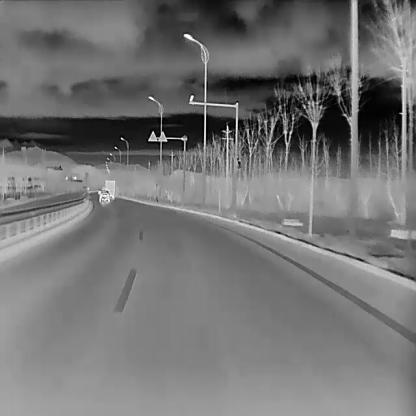car: (104, 179, 115, 198), (99, 190, 110, 202)
